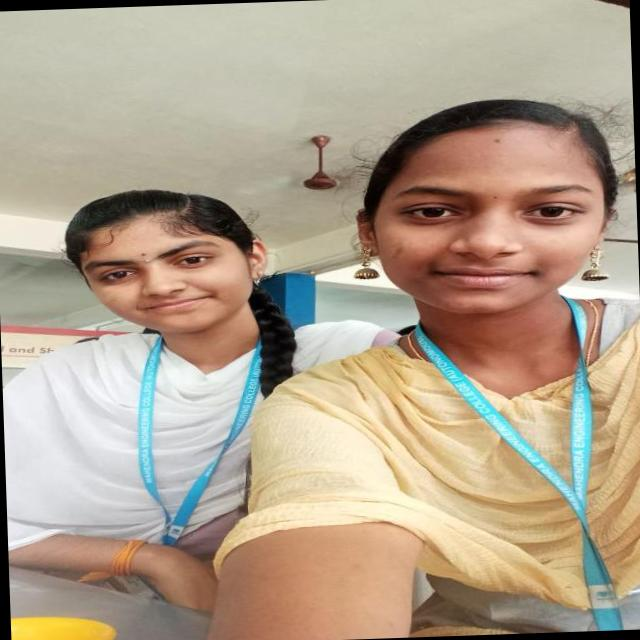id_card: (408, 301, 619, 637), (132, 330, 268, 542)
